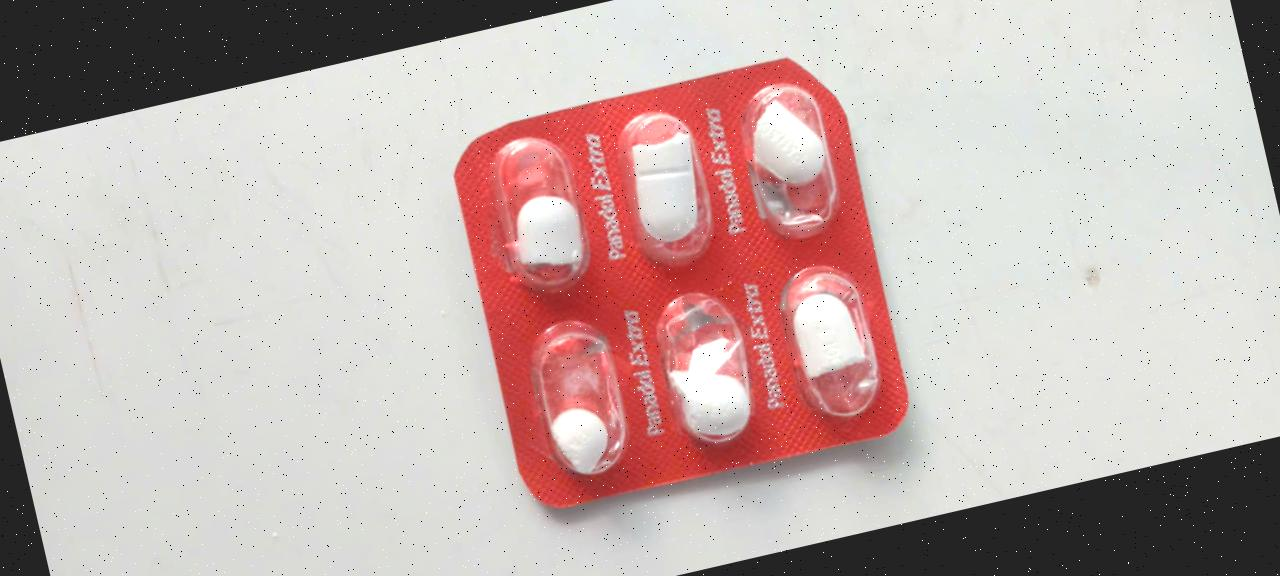Partial: (766, 236, 898, 430), (597, 82, 729, 276), (512, 299, 643, 493), (647, 261, 778, 455), (467, 107, 598, 301), (725, 60, 856, 254)
